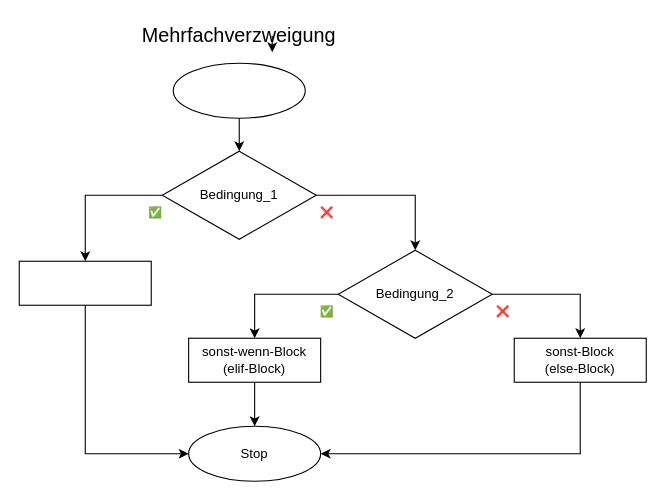
This 666x501 diagram has some shape labels left out. The shapes that lost their labels are listed below. From the top down, each one's centre as x and y in pixels, then its label:
the point at 238,90: Start
the point at 84,282: wenn-Block ( if-Block)
